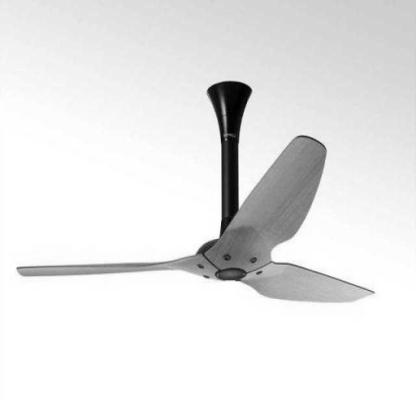ceiling-fan: (15, 80, 374, 310)
